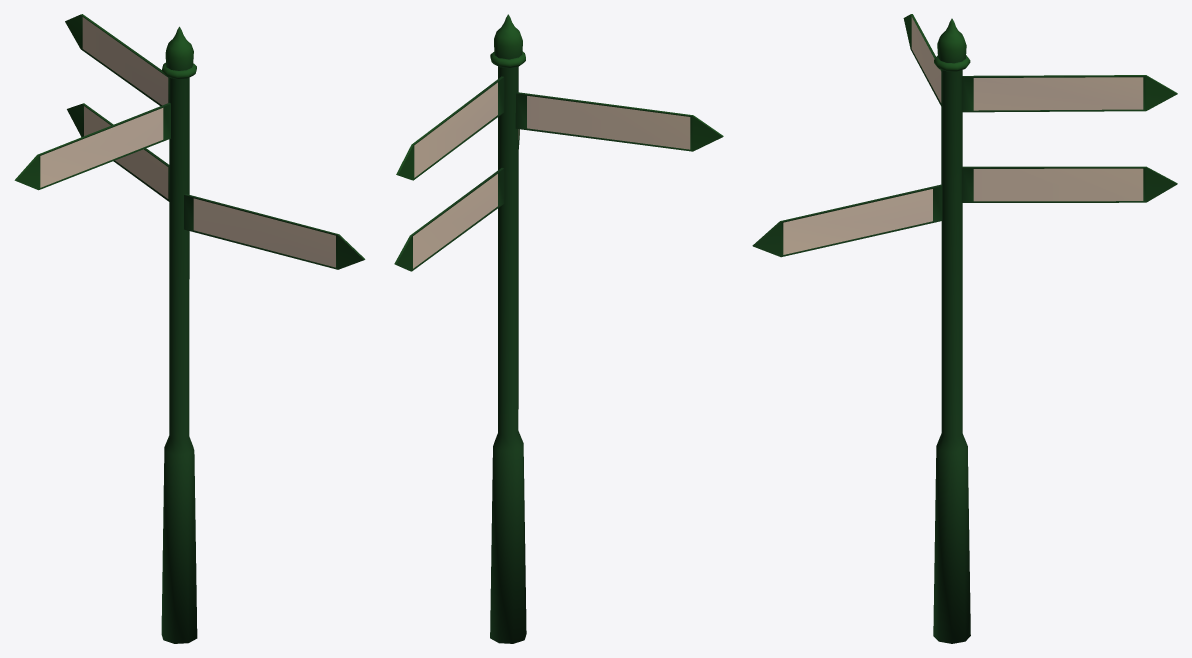
The model's file is MetalDirectionSign_Type4.fbx.
3 views of the same model, side by side, from view 1: azimuth 30°, elevation 25°; view 2: azimuth 150°, elevation 25°; view 3: azimuth 270°, elevation 25° (orthographic).
Visible parts, largest first — view 1: MetalDirectionSign_Type4; view 2: MetalDirectionSign_Type4; view 3: MetalDirectionSign_Type4.
Part boxes in pixels (bbox=[...]): MetalDirectionSign_Type4: bbox=[14, 14, 365, 643]; MetalDirectionSign_Type4: bbox=[394, 14, 723, 643]; MetalDirectionSign_Type4: bbox=[752, 14, 1177, 643].
Bounding box in the file's own units: 135 × 288 × 178.
